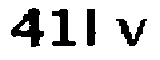1: (48, 6, 78, 49)
4: (8, 4, 48, 50)
I: (83, 3, 110, 50)
v: (114, 16, 149, 51)
